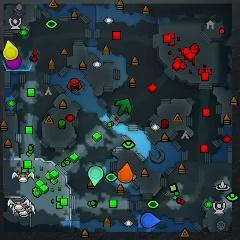p1: (141, 212, 161, 228)
p2: (88, 166, 104, 186)
p3: (5, 55, 22, 69)
p4: (3, 39, 18, 59)
p5: (118, 163, 133, 183)
x4: (115, 99, 132, 116)
